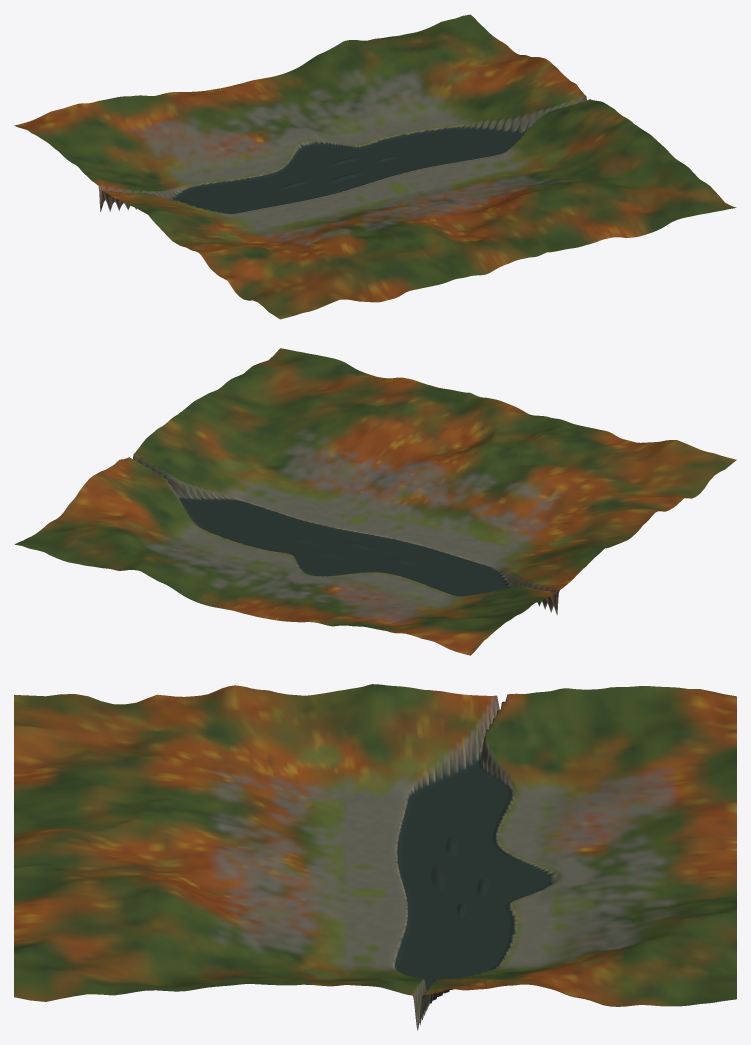
File: Branson_Terrain.glb
3 renders of one model, top to bottom at view 1: azimuth 30°, elevation 25°; view 2: azimuth 150°, elevation 25°; view 3: azimuth 270°, elevation 25°, orthographic. The views are drawn at different scales.
Parts seen in each view (by area): view 1: BR_Terrain; view 2: BR_Terrain; view 3: BR_Terrain.
Part boxes in pixels (x1,y1,x2,y2): BR_Terrain: [14, 14, 736, 319]; BR_Terrain: [14, 348, 736, 655]; BR_Terrain: [14, 684, 736, 1030].
Size of the model in its own units: 2331 by 177 by 2353.
